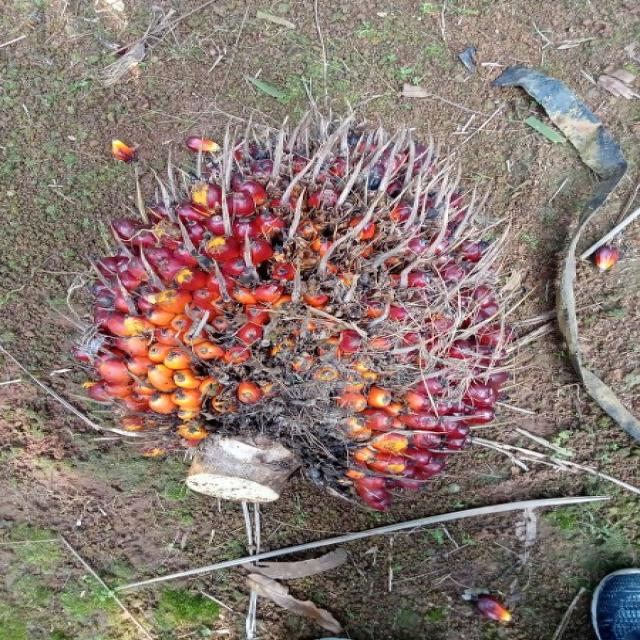fraksi 3: (21, 93, 613, 592)
